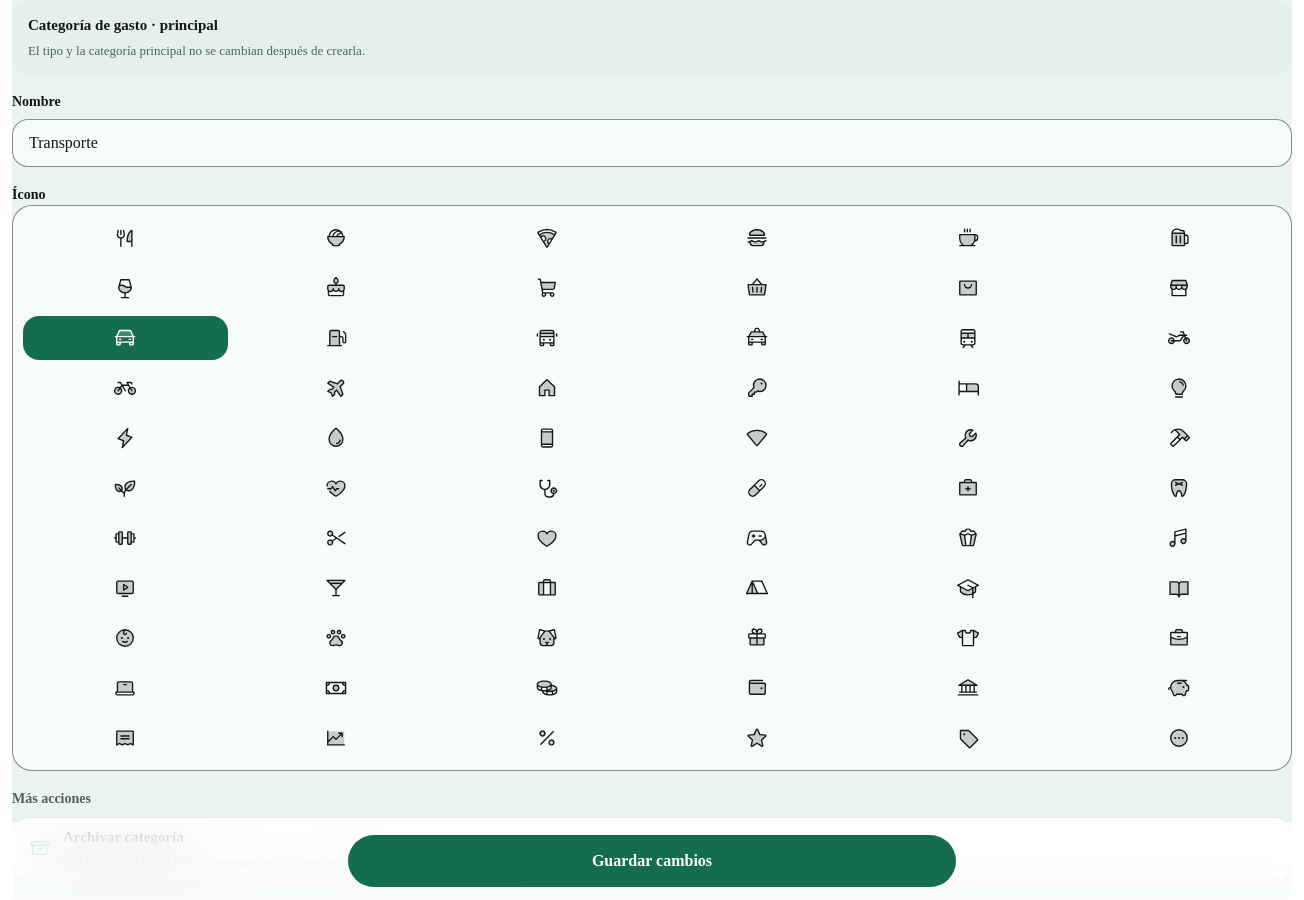
a repeated name (409 category_name_taken) › says the sibling is archived, but offers no 'Desarchivar' (it would not free the name)
The image size is (1304, 900).
Replace the text in the field labelled "Nombre" with "Mascotas": (652, 143) [12,119,1292,167]
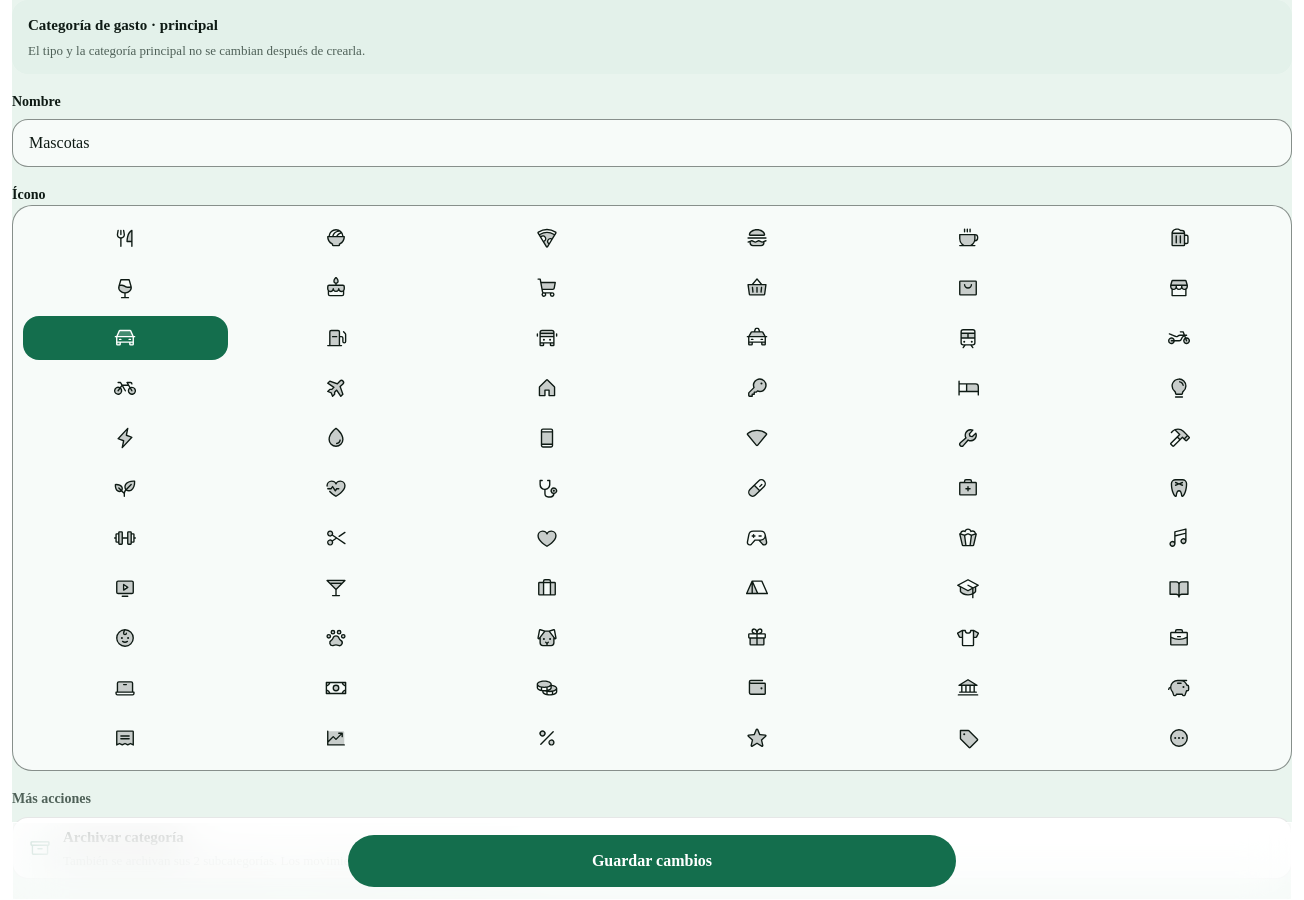
Click the button "Guardar cambios": (652, 861) [348,835,956,887]
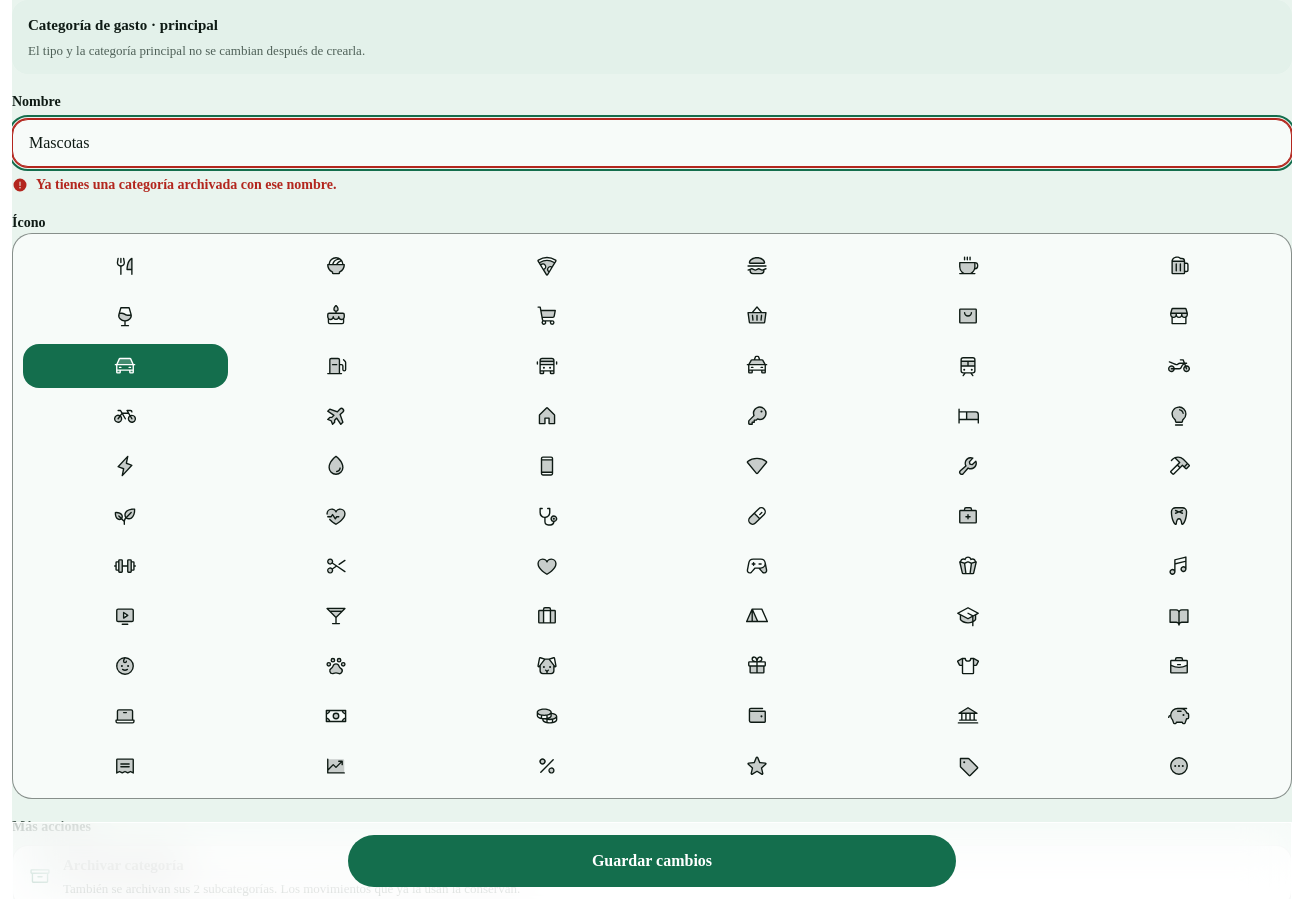
Expected: the text "Ya tienes una categoría archivada con ese nombre." is shown, [36,175,336,195]
